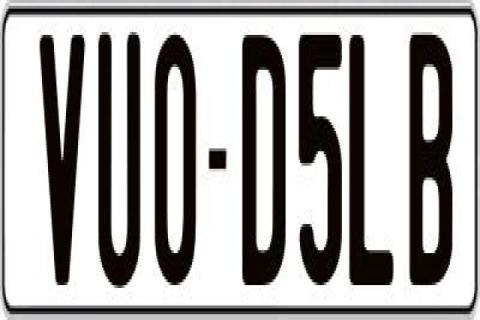0: (296, 35, 342, 297), (152, 26, 194, 282)
B: (409, 35, 456, 288)
D: (239, 35, 285, 291)
L: (346, 32, 398, 294)
U: (94, 29, 142, 294)
V: (38, 29, 86, 279)
